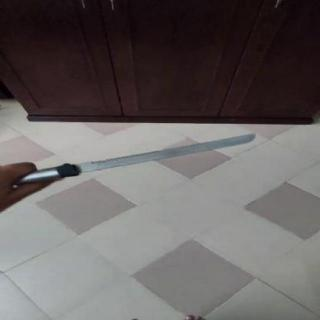knife: (70, 132, 264, 176)
